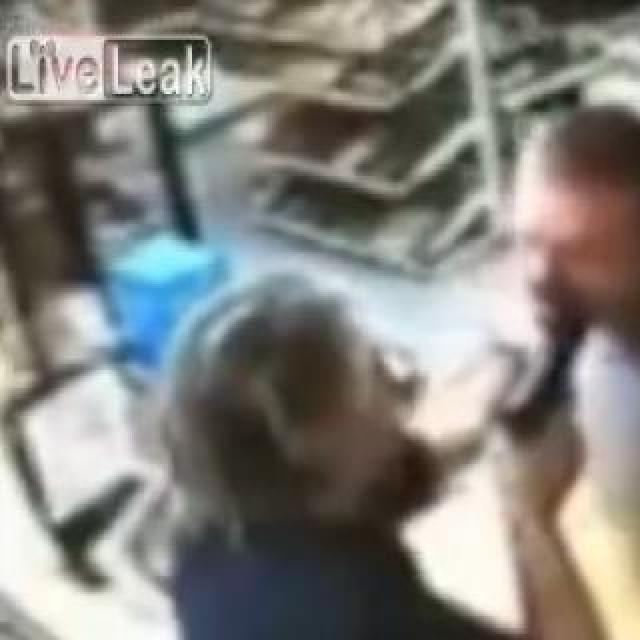Guns: (485, 298, 603, 463)
